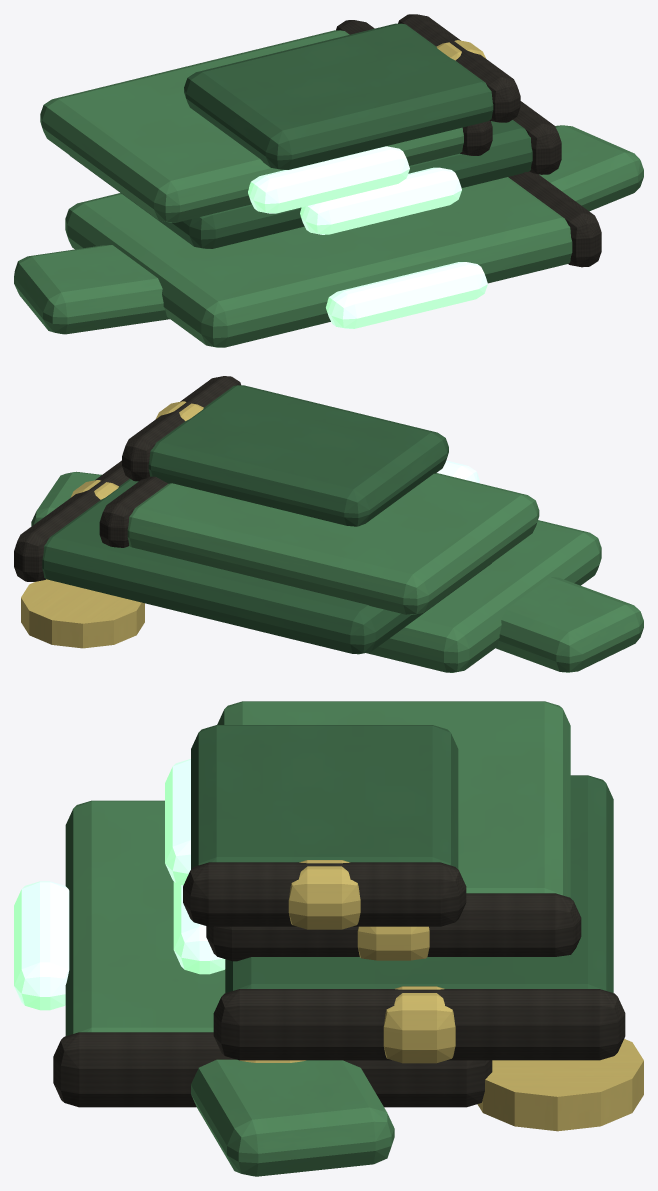
The model's file is pickup_cash_stack.glb.
The picture shows the model from 3 angles, top to bottom: view 1: azimuth 30°, elevation 25°; view 2: azimuth 150°, elevation 25°; view 3: azimuth 270°, elevation 25°; orthographic projection. The views are drawn at different scales.
Visible parts, largest first — view 1: pickup_cash_stack_bundle0, pickup_cash_stack_bundle3, pickup_cash_stack_bundle2, pickup_cash_stack_loose_r, pickup_cash_stack_bundle1, pickup_cash_stack_print0, pickup_cash_stack_print2, pickup_cash_stack_print1, pickup_cash_stack_loose_l, pickup_cash_stack_band3, pickup_cash_stack_band0, pickup_cash_stack_band1 (+2 smaller); view 2: pickup_cash_stack_bundle2, pickup_cash_stack_bundle3, pickup_cash_stack_bundle1, pickup_cash_stack_bundle0, pickup_cash_stack_loose_r, pickup_cash_stack_coin, pickup_cash_stack_band1, pickup_cash_stack_band3, pickup_cash_stack_band2, pickup_cash_stack_loose_l, pickup_cash_stack_print2, pickup_cash_stack_clip3 (+1 smaller); view 3: pickup_cash_stack_bundle3, pickup_cash_stack_bundle2, pickup_cash_stack_bundle0, pickup_cash_stack_band1, pickup_cash_stack_bundle1, pickup_cash_stack_loose_l, pickup_cash_stack_band0, pickup_cash_stack_band3, pickup_cash_stack_band2, pickup_cash_stack_coin, pickup_cash_stack_print0, pickup_cash_stack_clip1 (+4 smaller).
Boxes of the visible parts, x1=… form: pickup_cash_stack_bundle0: x1=65, y1=177, x2=572, y2=347; pickup_cash_stack_bundle3: x1=184, y1=23, x2=493, y2=169; pickup_cash_stack_bundle2: x1=40, y1=30, x2=463, y2=222; pickup_cash_stack_loose_r: x1=14, y1=245, x2=169, y2=334; pickup_cash_stack_bundle1: x1=69, y1=120, x2=532, y2=248; pickup_cash_stack_print0: x1=326, y1=262, x2=487, y2=328; pickup_cash_stack_print2: x1=248, y1=146, x2=409, y2=213; pickup_cash_stack_print1: x1=300, y1=167, x2=461, y2=234; pickup_cash_stack_loose_l: x1=539, y1=125, x2=643, y2=211; pickup_cash_stack_band3: x1=398, y1=14, x2=520, y2=122; pickup_cash_stack_band0: x1=508, y1=171, x2=601, y2=267; pickup_cash_stack_band1: x1=513, y1=101, x2=561, y2=174; pickup_cash_stack_bundle2: x1=127, y1=473, x2=539, y2=614; pickup_cash_stack_bundle3: x1=148, y1=385, x2=448, y2=526; pickup_cash_stack_bundle1: x1=42, y1=479, x2=491, y2=654; pickup_cash_stack_bundle0: x1=366, y1=520, x2=601, y2=672; pickup_cash_stack_loose_r: x1=495, y1=577, x2=643, y2=672; pickup_cash_stack_coin: x1=21, y1=579, x2=144, y2=648; pickup_cash_stack_band1: x1=14, y1=460, x2=129, y2=581; pickup_cash_stack_band3: x1=122, y1=376, x2=240, y2=481; pickup_cash_stack_band2: x1=99, y1=476, x2=167, y2=547; pickup_cash_stack_loose_l: x1=31, y1=471, x2=101, y2=526; pickup_cash_stack_print2: x1=437, y1=460, x2=479, y2=482; pickup_cash_stack_clip3: x1=155, y1=401, x2=203, y2=420; pickup_cash_stack_bundle3: x1=191, y1=725, x2=458, y2=869; pickup_cash_stack_bundle2: x1=217, y1=701, x2=570, y2=897; pickup_cash_stack_bundle0: x1=65, y1=800, x2=225, y2=1035; pickup_cash_stack_band1: x1=213, y1=989, x2=625, y2=1060; pickup_cash_stack_bundle1: x1=225, y1=775, x2=613, y2=992; pickup_cash_stack_loose_l: x1=191, y1=1059, x2=394, y2=1176; pickup_cash_stack_band0: x1=53, y1=1032, x2=492, y2=1107; pickup_cash_stack_band3: x1=183, y1=862, x2=466, y2=926; pickup_cash_stack_band2: x1=206, y1=893, x2=581, y2=961; pickup_cash_stack_coin: x1=477, y1=1039, x2=643, y2=1131; pickup_cash_stack_print0: x1=14, y1=881, x2=69, y2=1010; pickup_cash_stack_clip1: x1=383, y1=986, x2=455, y2=1063.
Size of the model in its own units: 0.5411 by 0.1406 by 0.365.
Materials: 5 (4 with a texture image).
